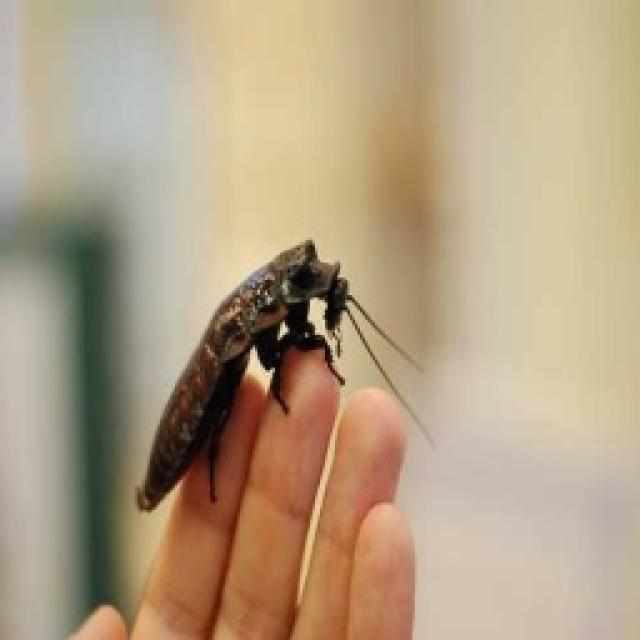cockroach: (132, 234, 436, 516)
